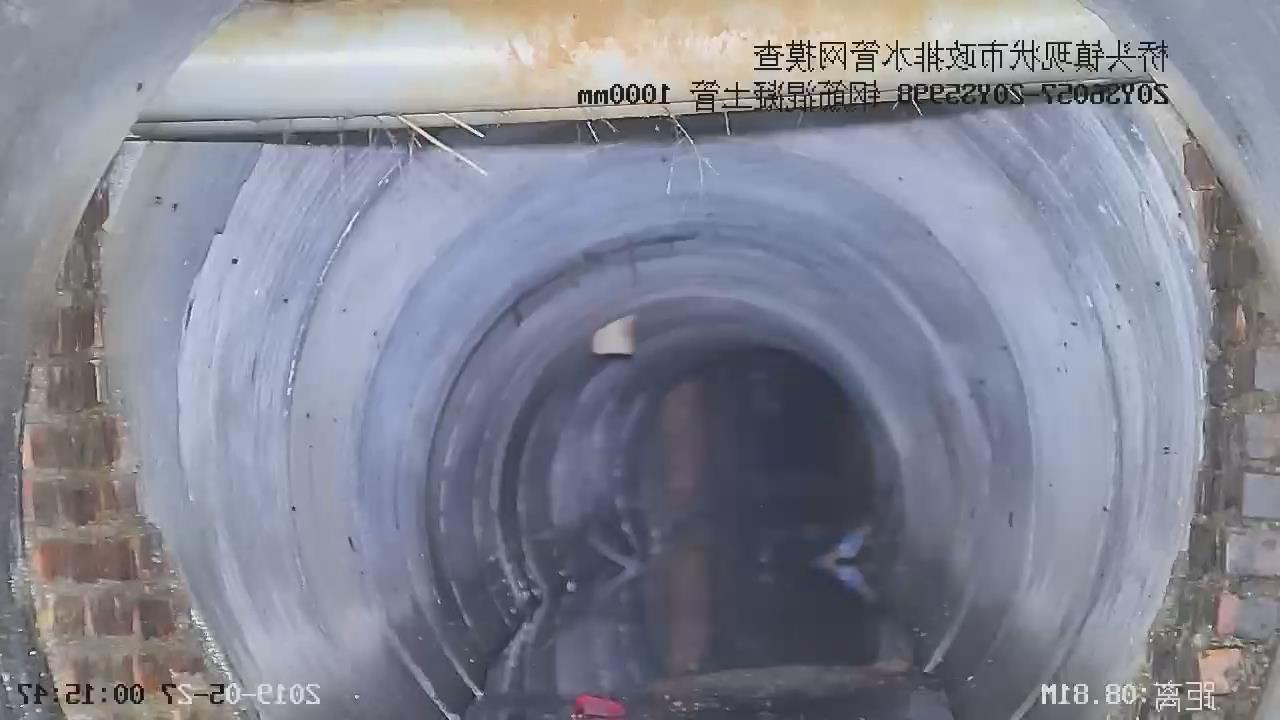YWCR: (130, 0, 1169, 138)
